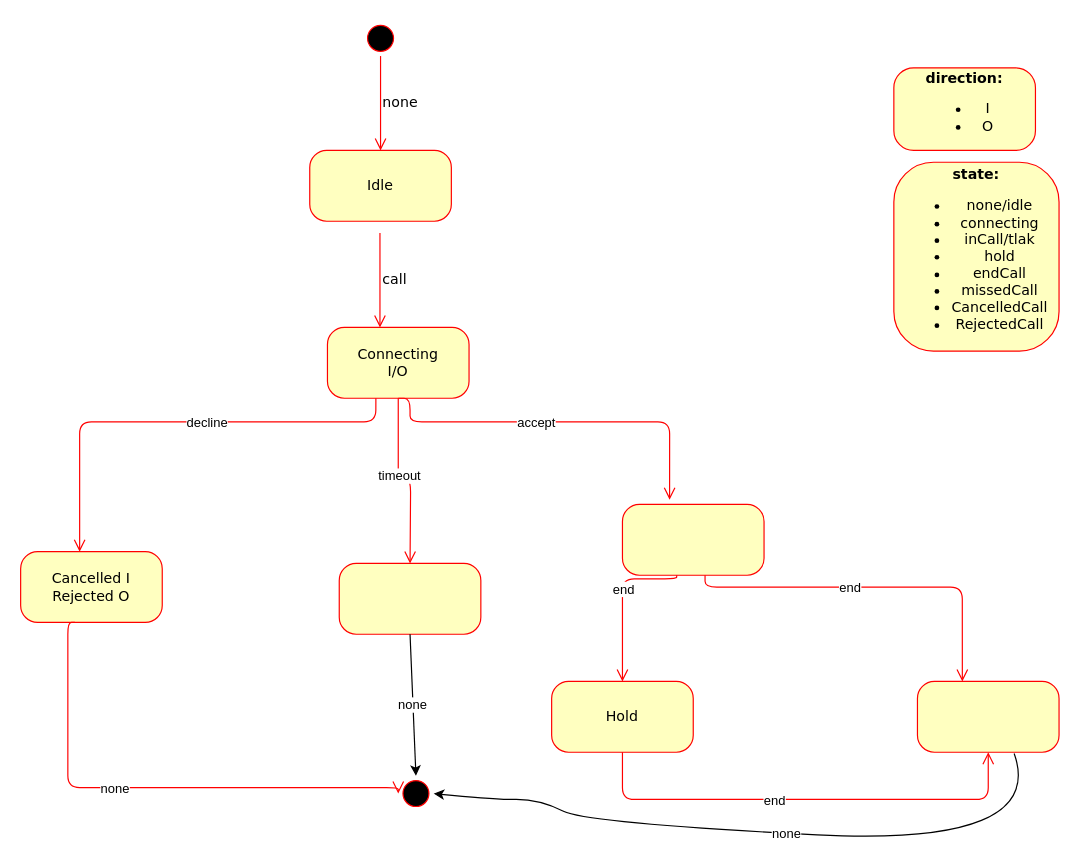
Image size: 1080x861. Some labels were removed from this diagram. Here are the shapes that lost their labels. From the top down, the centre of each, then its label:
the point at 692,539: inCall/Talking
the point at 409,598: missedCall
the point at 987,716: endCall
